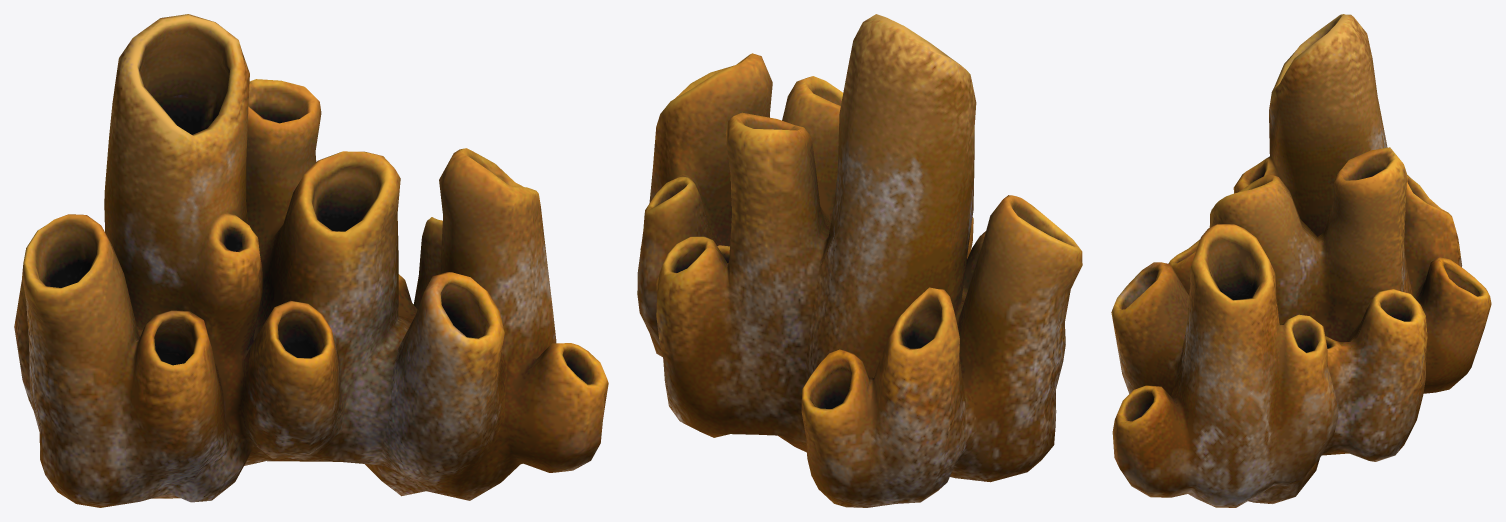
File: Coral V2.1.fbx
3 views of the same model, side by side, from view 1: azimuth 30°, elevation 25°; view 2: azimuth 150°, elevation 25°; view 3: azimuth 270°, elevation 25° (orthographic). The views are drawn at different scales.
Parts seen in each view (by area): view 1: Coral V2.1; view 2: Coral V2.1; view 3: Coral V2.1.
Boxes of the visible parts, <box> form: Coral V2.1: <box>14,14,608,507</box>; Coral V2.1: <box>637,14,1082,507</box>; Coral V2.1: <box>1111,14,1491,507</box>.
Bounding box in the file's own units: 50.22 × 48.2 × 41.13.
